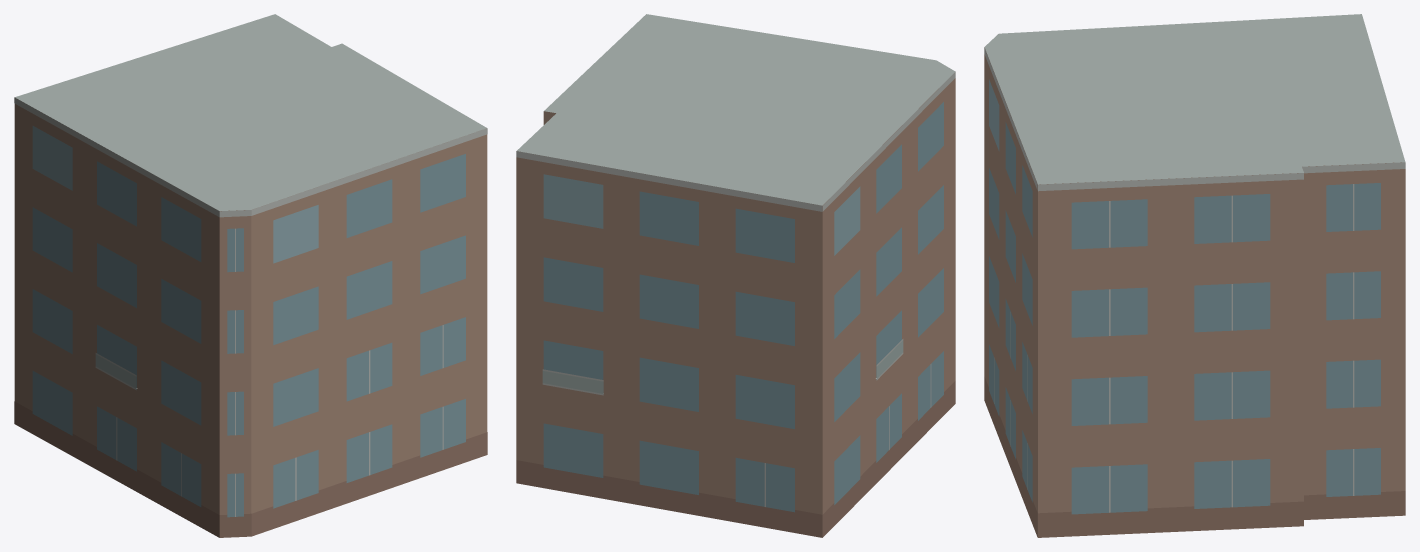
The model's file is survey-upis-32749097.glb.
3 views of the same model, side by side, from view 1: azimuth 30°, elevation 25°; view 2: azimuth 150°, elevation 25°; view 3: azimuth 270°, elevation 25° (orthographic). The views are drawn at different scales.
Visible parts, largest first — view 1: survey-upis-32749097.tmp; view 2: survey-upis-32749097.tmp; view 3: survey-upis-32749097.tmp.
Boxes of the visible parts, x1,y1,x2,y2 form: survey-upis-32749097.tmp: [14, 14, 487, 537]; survey-upis-32749097.tmp: [516, 14, 955, 537]; survey-upis-32749097.tmp: [984, 14, 1405, 537].
Bounding box in the file's own units: 13.36 × 12.9 × 13.94.
